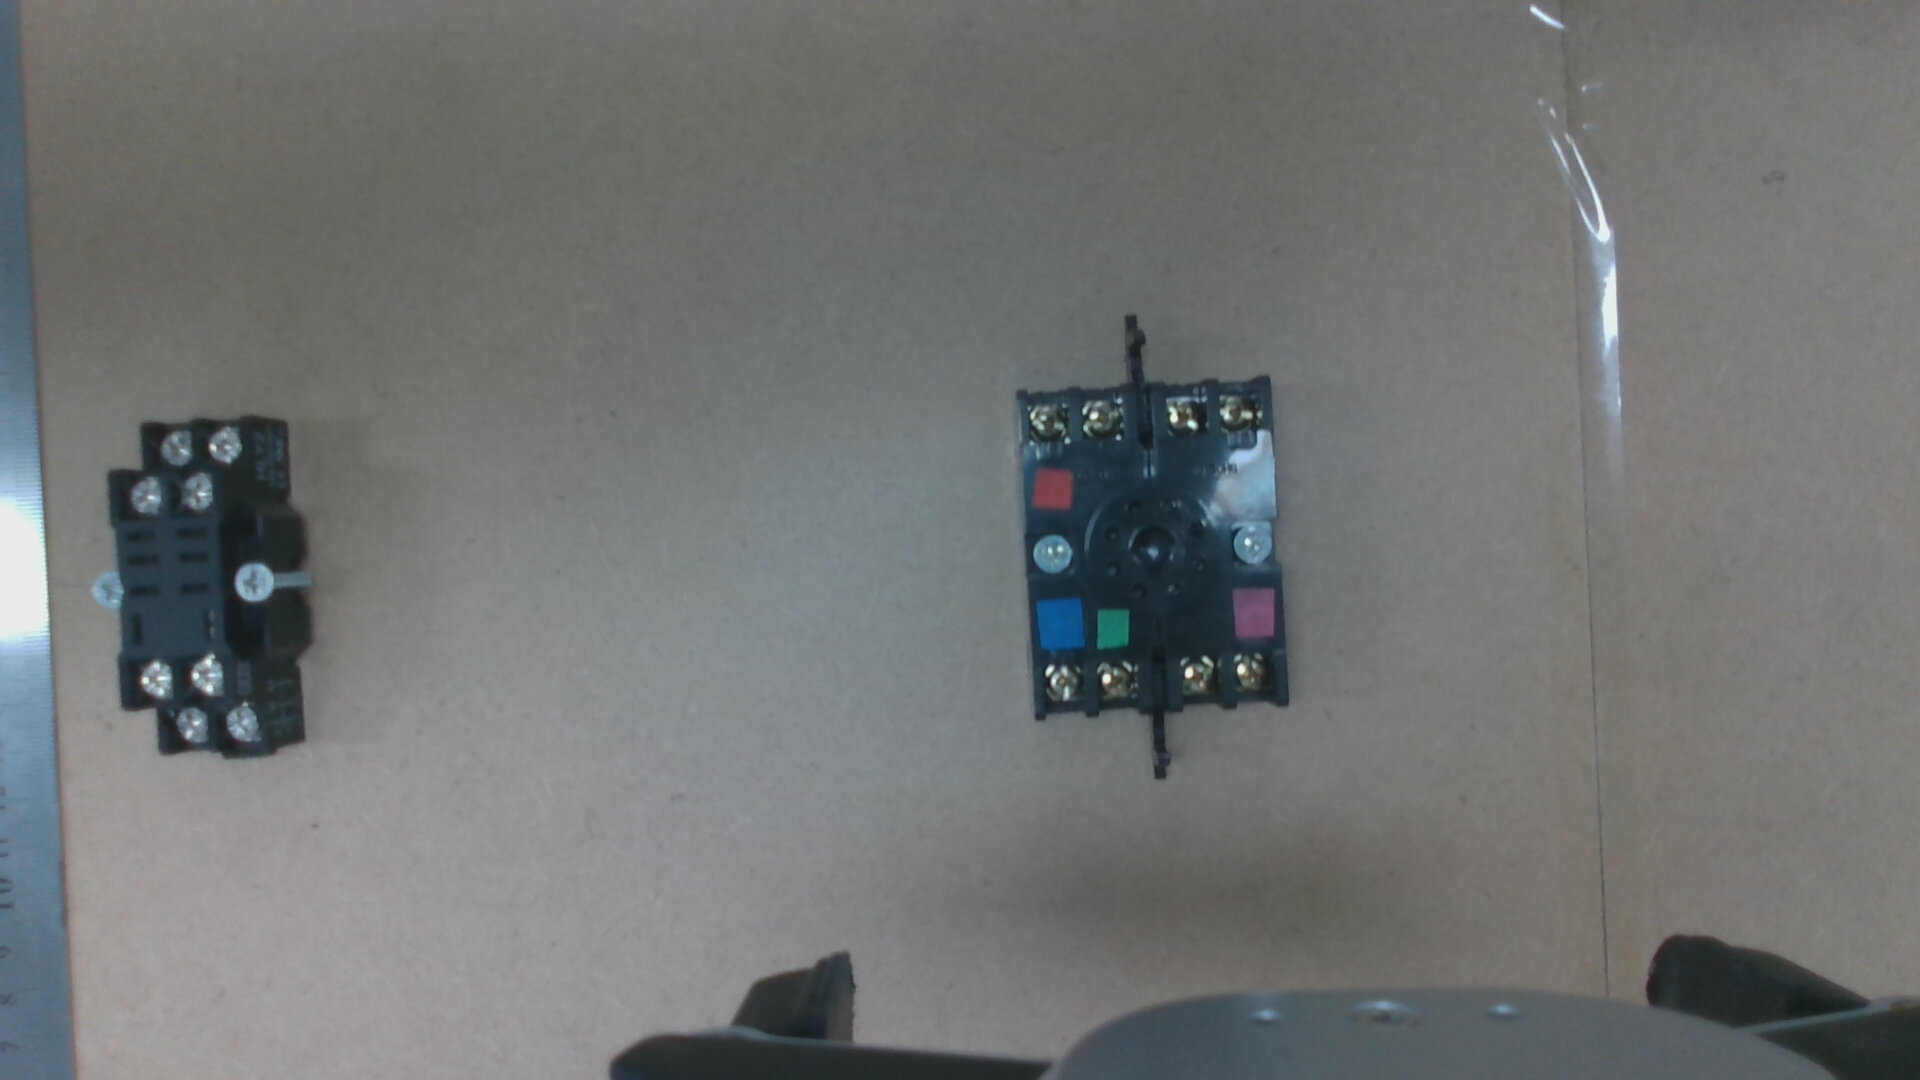timer 2: (1234, 653, 1270, 694)
timer 6: (1027, 402, 1069, 438)
timer 7: (1044, 665, 1083, 704)
timer 8: (1097, 663, 1135, 702)
